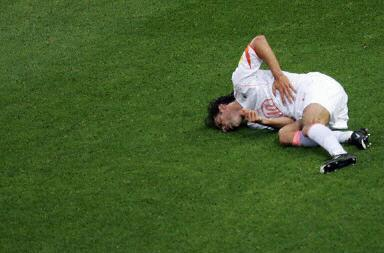fall: (198, 30, 376, 172)
